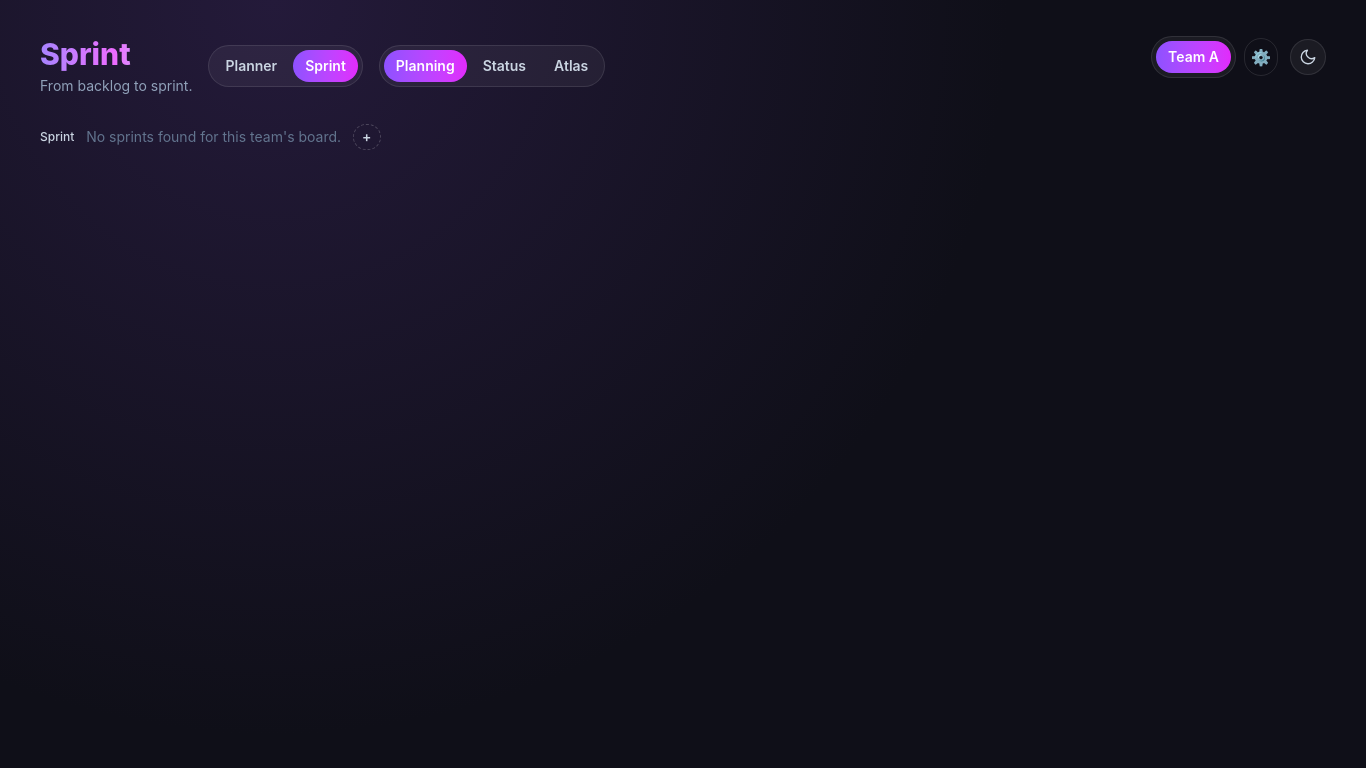
Test case: SprintShell › falls back to the "no teams yet" message, not a blank page, after deleting the team whose URL is still active
Check: the text "No sprints found for this team's board." is shown, box [86,127,341,147]
Click the button named "Manage teams" at (1261, 57), box [1244,38,1278,76]
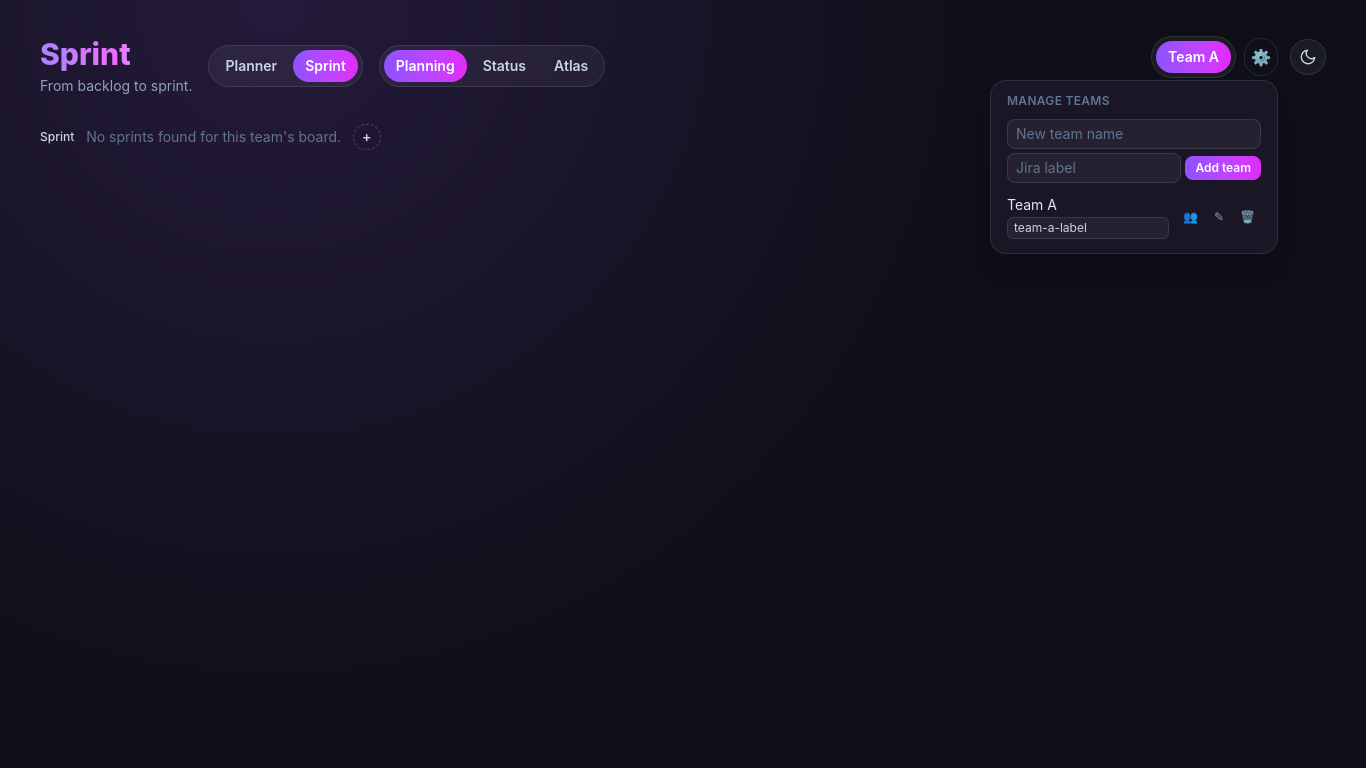
Click the button named "Delete Team A" at (1248, 217), box [1234,205,1261,229]
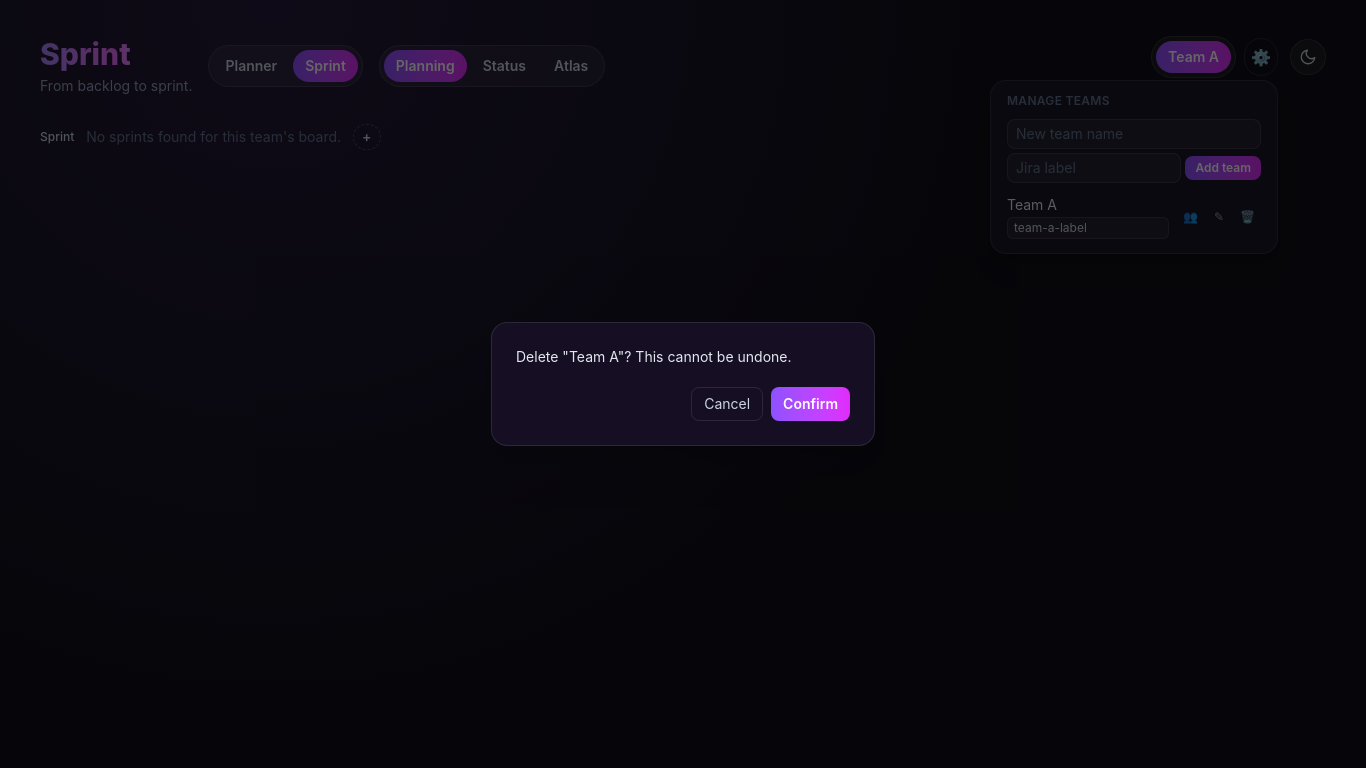
Click the button "Confirm" at (811, 404), box [771,387,850,421]
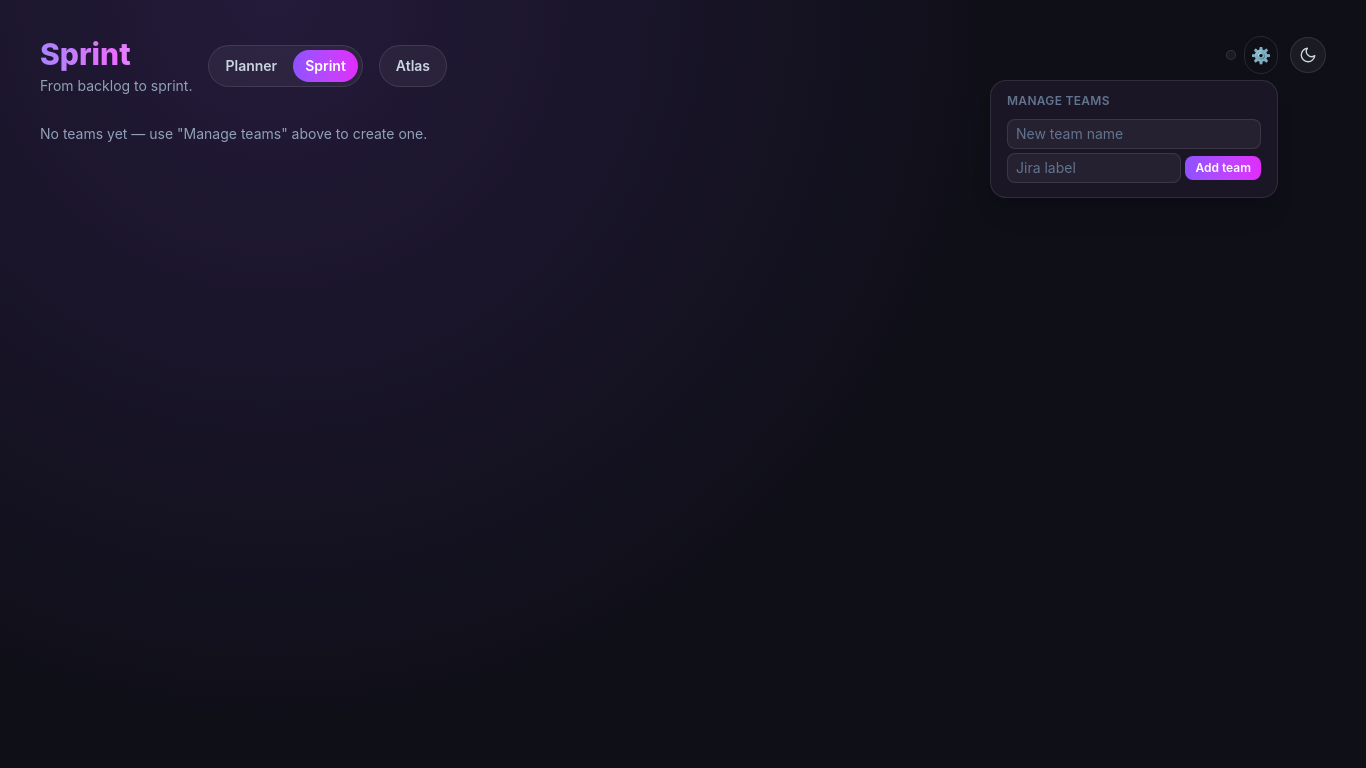
Check: the text "No teams yet — use \"Manage teams\" above to create one." is shown, box [40,125,427,142]
